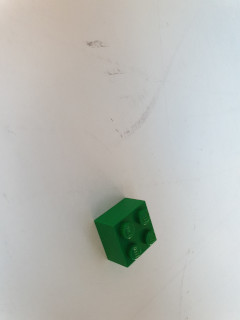2x2 green: (94, 197, 158, 268)
